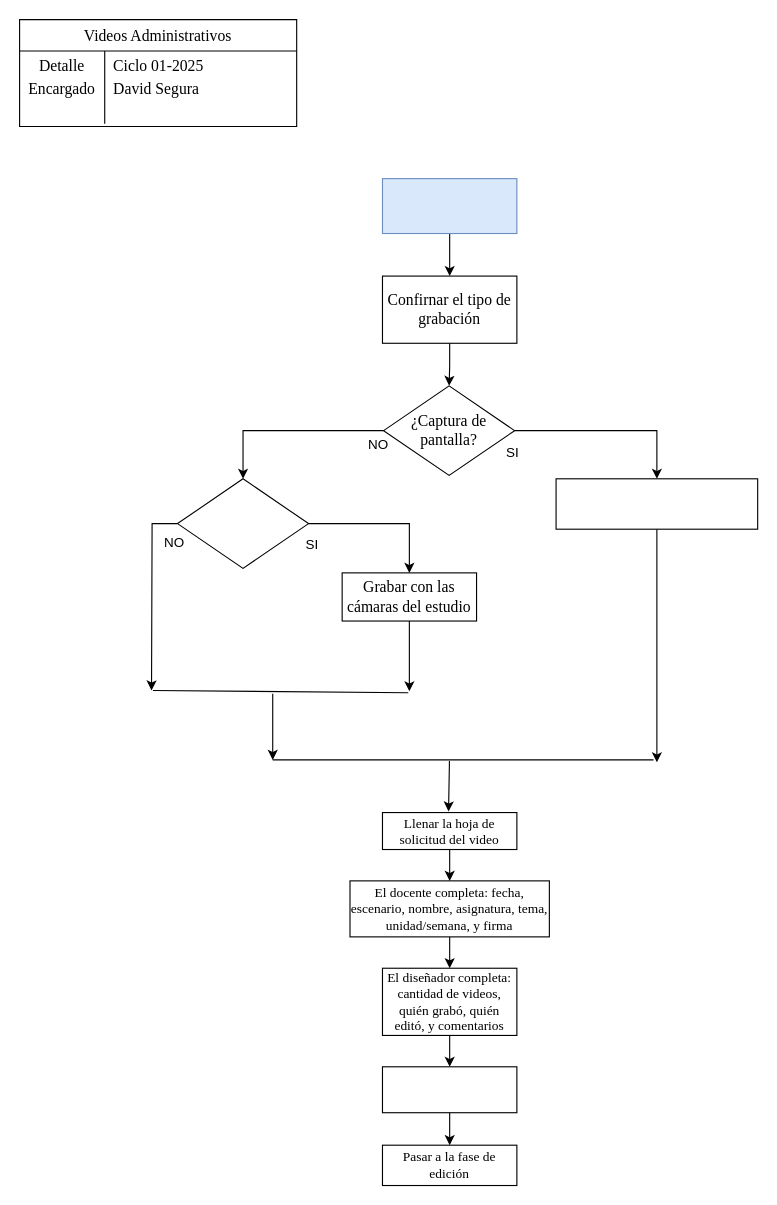
Some shapes in this 777 by 1205 pixel diagram are drawn without their labels. Here are the shapes that lost their labels. From the top down, the box of each, then its label:
(381, 178, 517, 234): Producción (Grabación)
(176, 478, 309, 568): ¿Grabación estándar?
(555, 478, 758, 529): Grabar en iMac o laptop HP y usar solo el audio de la cámara
(381, 1066, 517, 1113): Guardar la hoja para el cuadro estadístico
